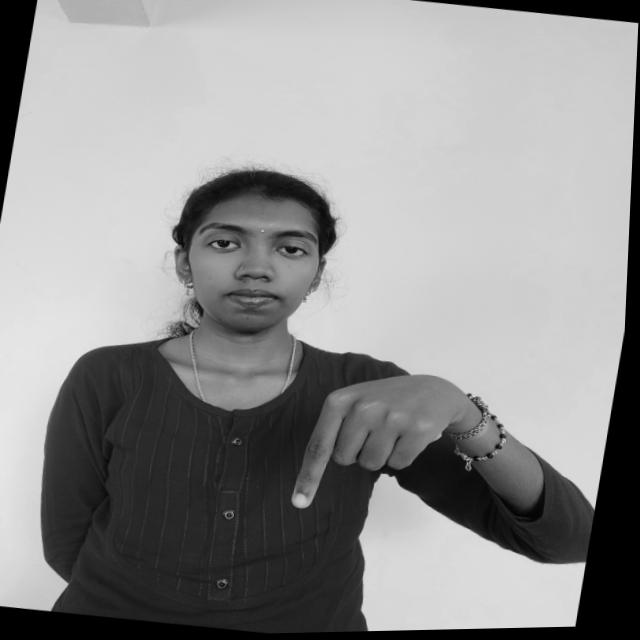Now: (288, 355, 482, 536)
